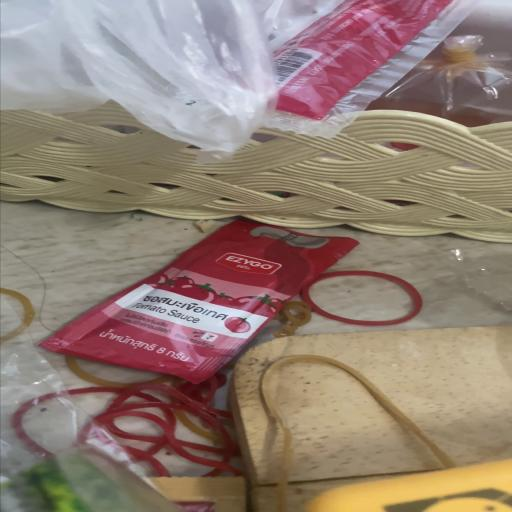brand_golden_good: (232, 327, 511, 504)
